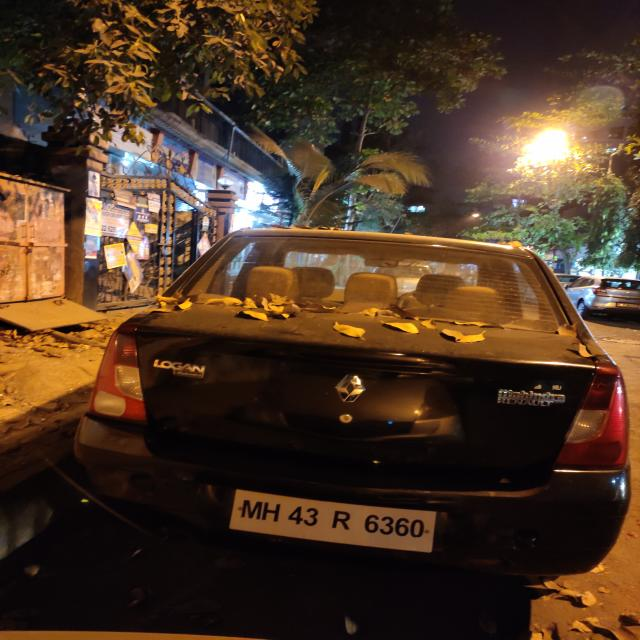Number-Plate: (232, 493, 423, 543)
